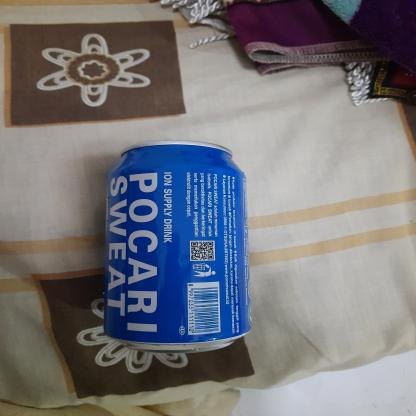mouse: (96, 136, 262, 358)
